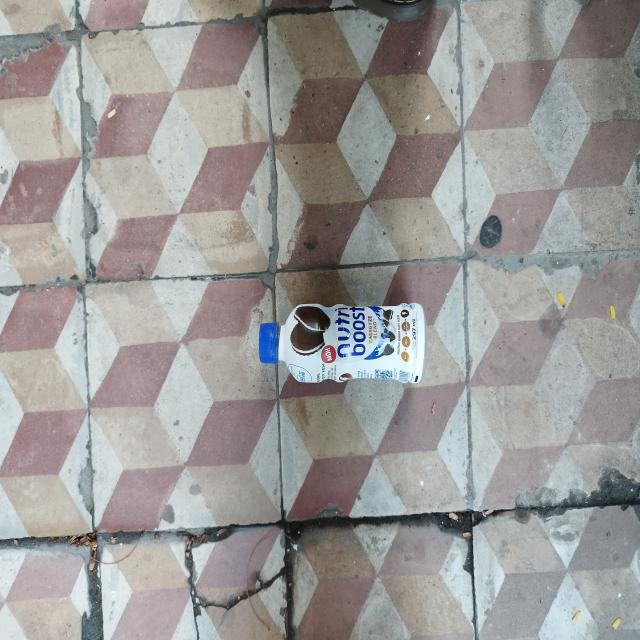bottle: (258, 302, 428, 384)
